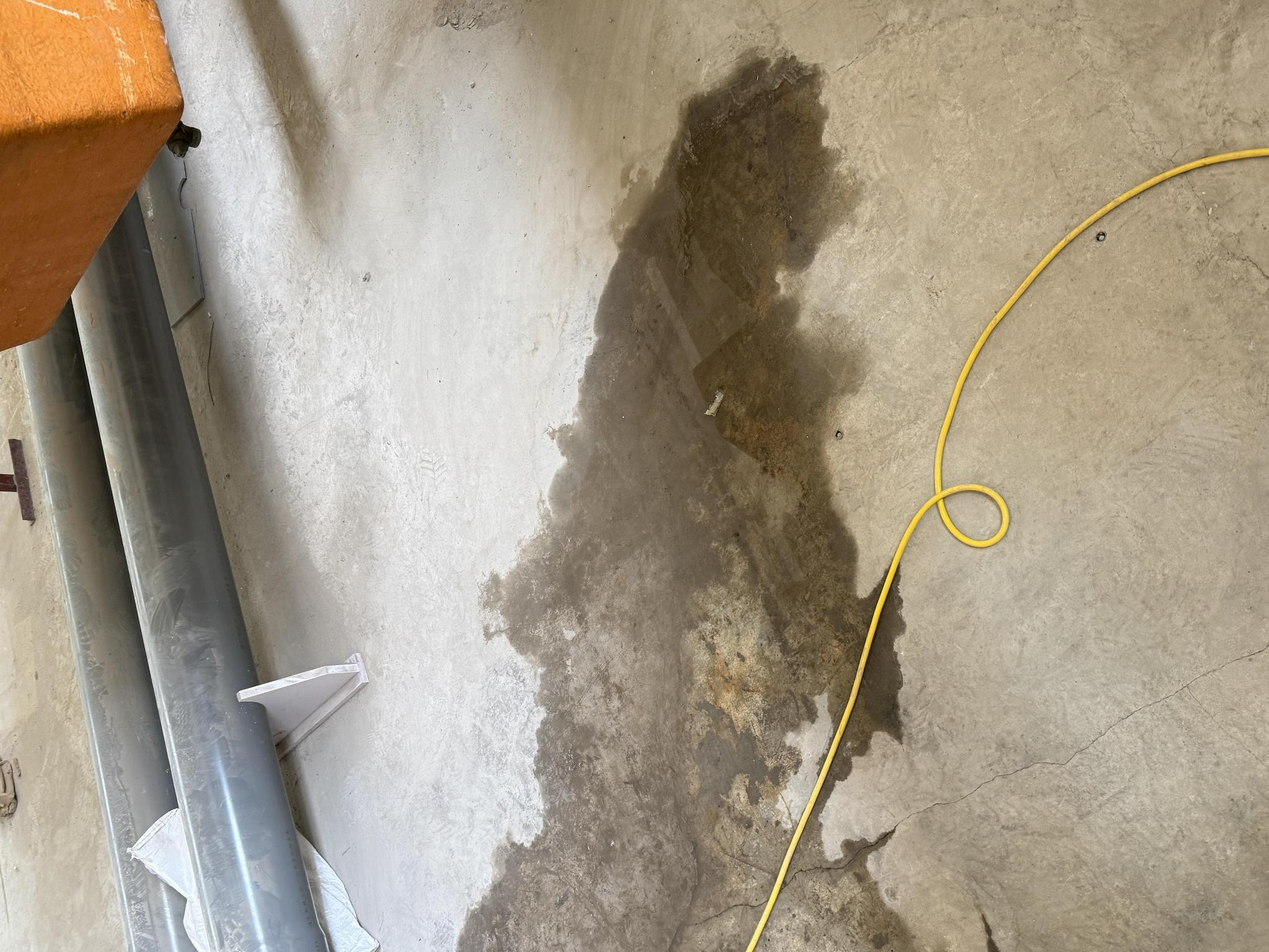water accumulation: (455, 46, 908, 952)
